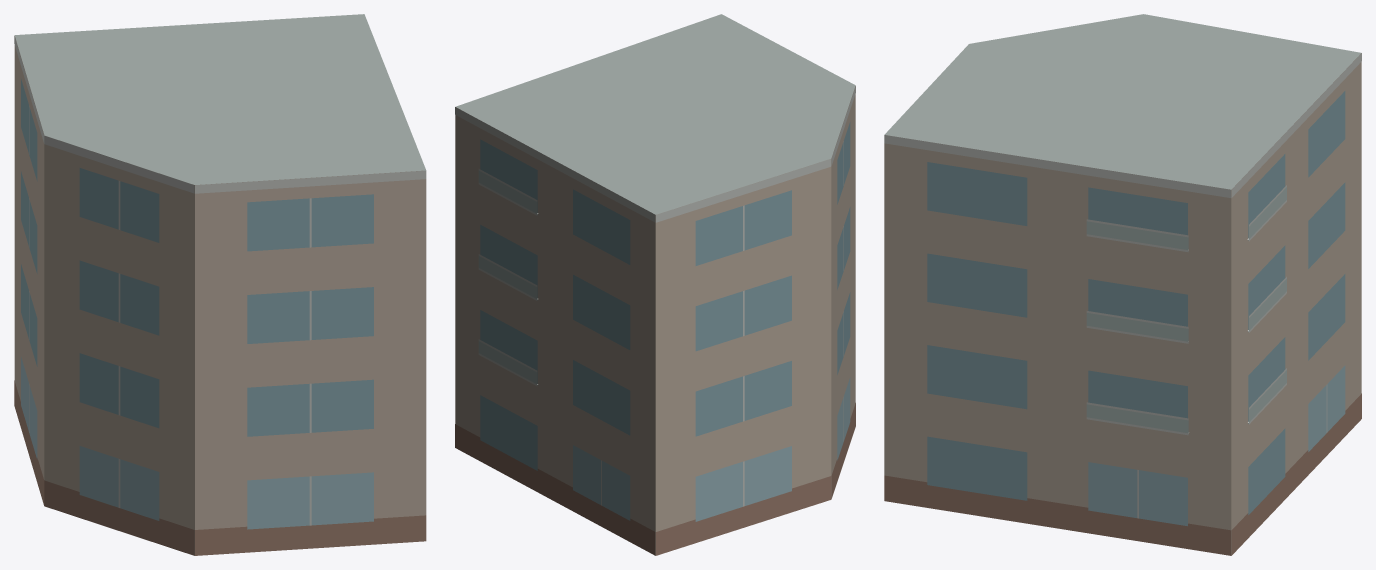
File: survey-upis-32622647.glb
3 renders of one model, left to right at view 1: azimuth 30°, elevation 25°; view 2: azimuth 150°, elevation 25°; view 3: azimuth 270°, elevation 25°, orthographic. The views are drawn at different scales.
Parts seen in each view (by area): view 1: survey-upis-32622647.tmp; view 2: survey-upis-32622647.tmp; view 3: survey-upis-32622647.tmp.
Part boxes in pixels (left/top/right/bottom): survey-upis-32622647.tmp: left=14, top=14, right=426, bottom=555; survey-upis-32622647.tmp: left=455, top=14, right=855, bottom=555; survey-upis-32622647.tmp: left=884, top=14, right=1361, bottom=555.
Size of the model in its own units: 10.76 by 10.45 by 12.36.
